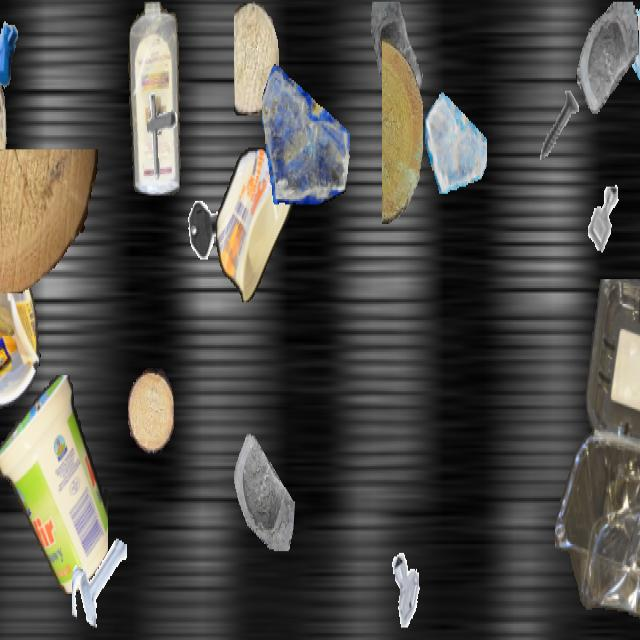glass: (262, 52, 350, 208), (221, 418, 295, 549), (367, 1, 431, 116), (425, 84, 487, 194), (576, 2, 638, 112), (623, 2, 640, 130)
metal: (72, 530, 126, 626), (132, 87, 186, 183), (533, 80, 587, 176), (578, 172, 630, 265), (386, 548, 430, 626), (186, 190, 228, 265), (0, 2, 31, 98)
plastic: (555, 279, 640, 638), (0, 375, 108, 596), (216, 147, 294, 300), (126, 2, 184, 194), (0, 235, 42, 409)
wood: (0, 150, 99, 292), (382, 39, 422, 224), (234, 1, 278, 116), (128, 368, 174, 453), (0, 46, 6, 231)
